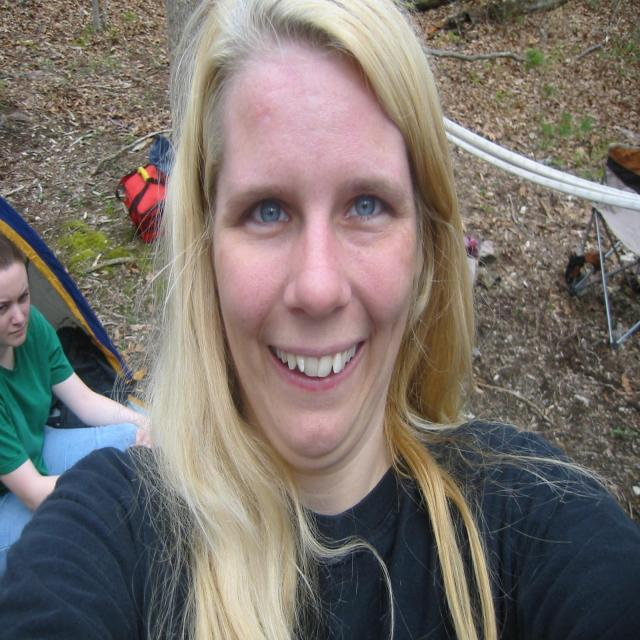no-glass: (242, 195, 397, 242)
